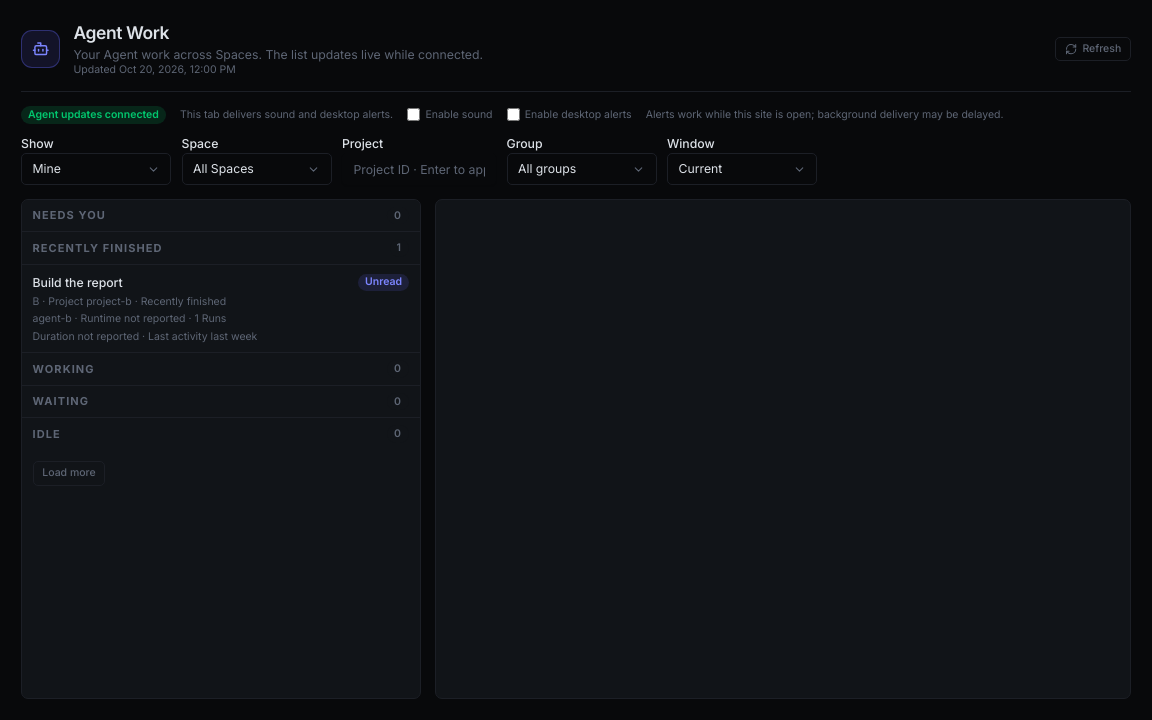
Test: Agent Work page › keeps the previous window when a later refresh page fails and resets the window on filter changes
The image size is (1152, 720).
Click the button "Load more" at (69, 473), box [32,461,105,486]
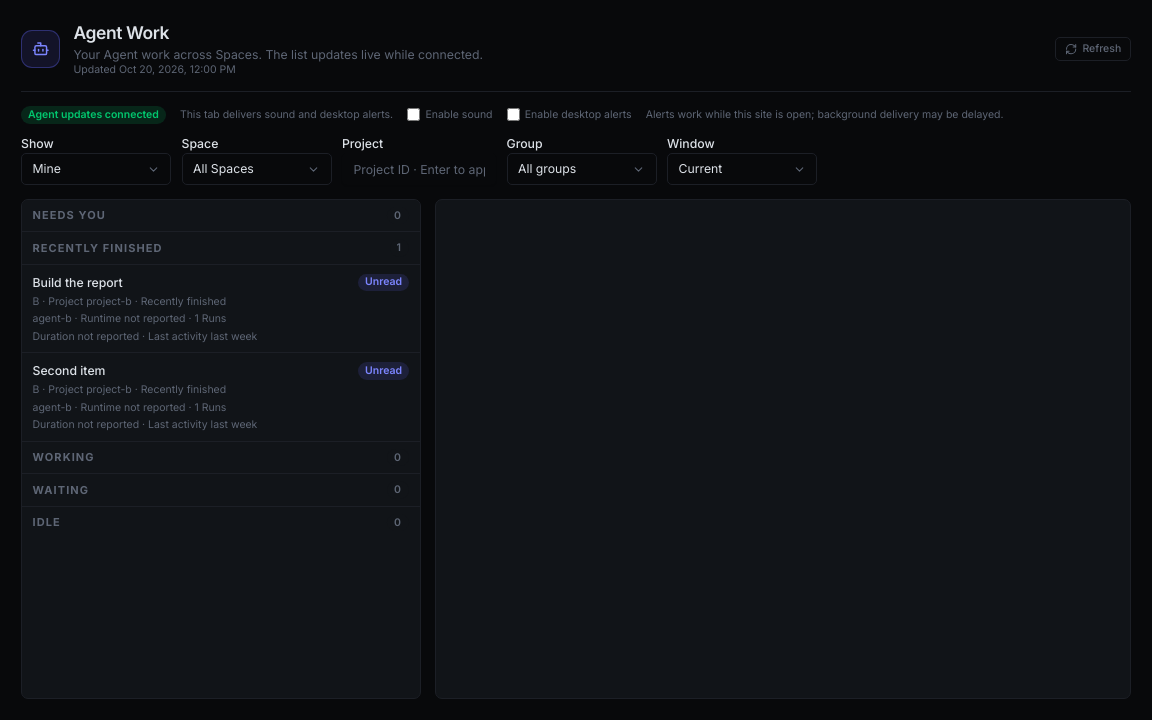
Expected: the button "Second item" is shown, [22,352,420,441]
Click the button "Refresh" at (1093, 49), box [1055,37,1131,61]
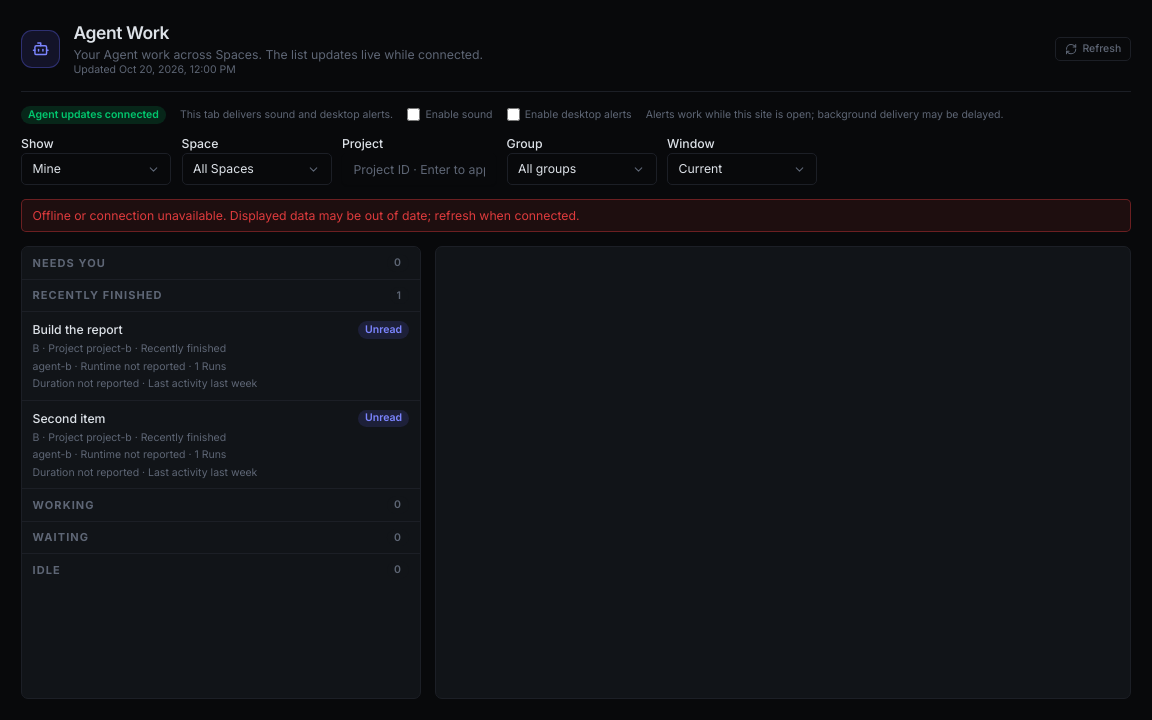
Expected: the button "Build the report" is shown, [22,311,420,400]
Expected: the button "Second item" is shown, [22,400,420,488]
Expected: the 2nd message shows "may be out of date", [32,208,580,223]
Click the button "All Spaces" at (256, 169), box [182,153,332,185]
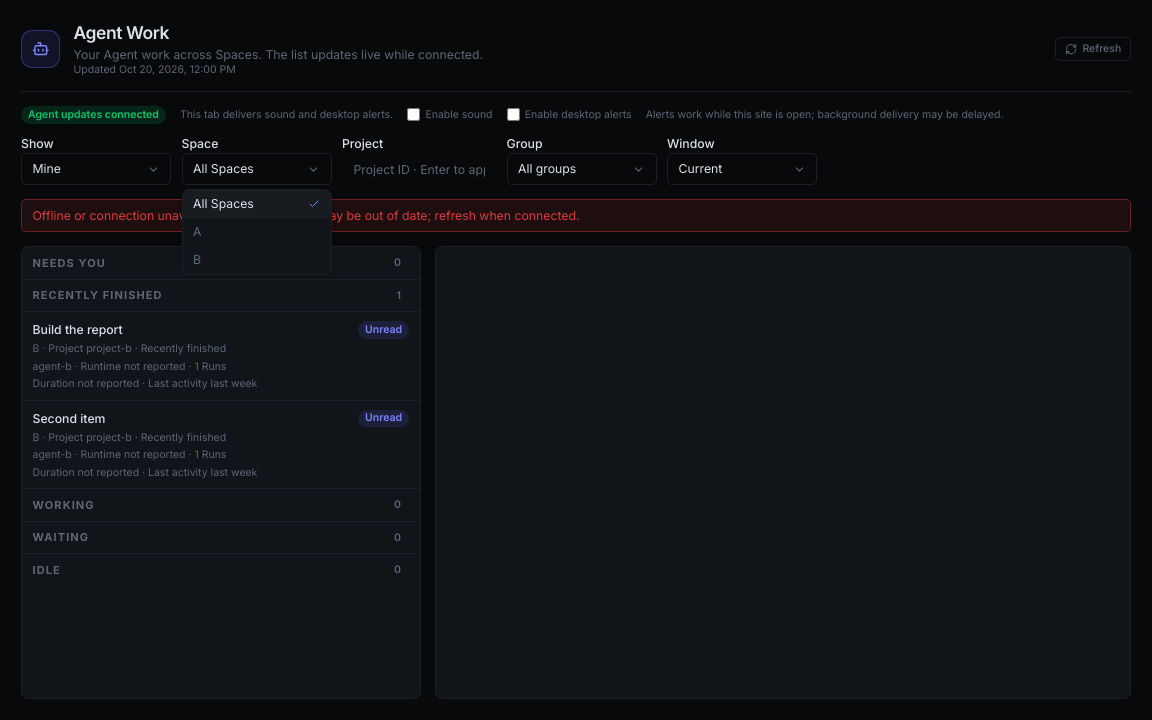
Click the option "B" at (256, 260), box [182,246,330,274]
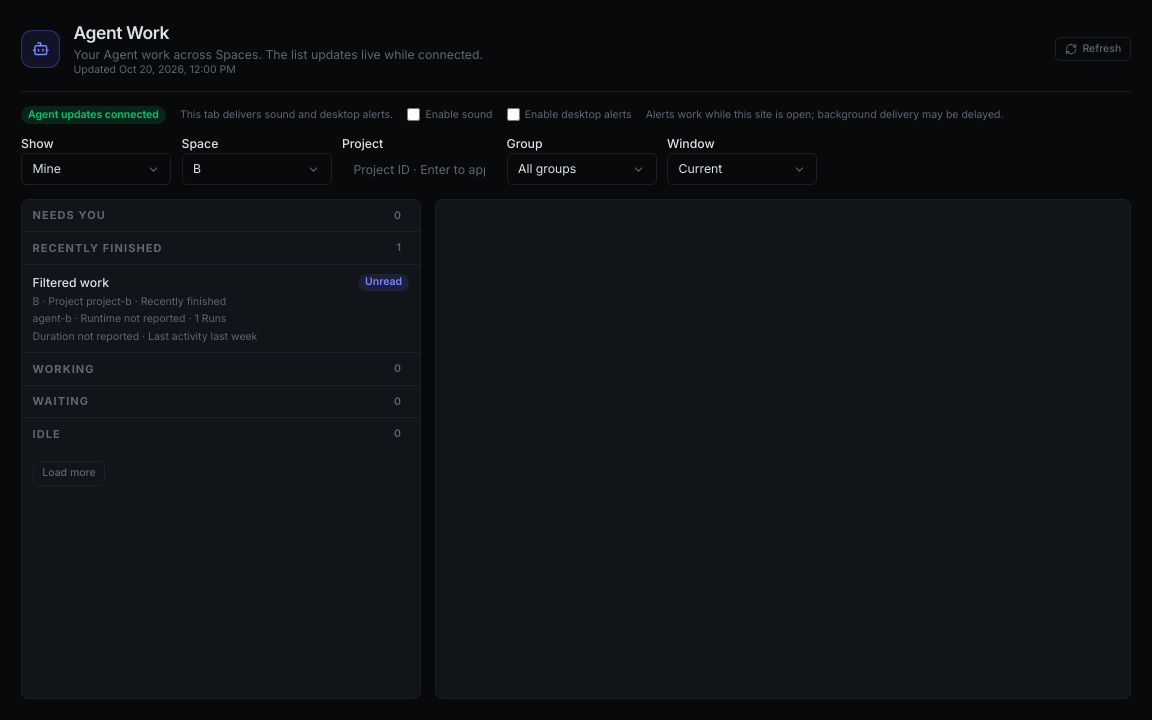
Expected: the button "Filtered work" is shown, [22,264,420,352]
Expected: the button "Second item" is gone
